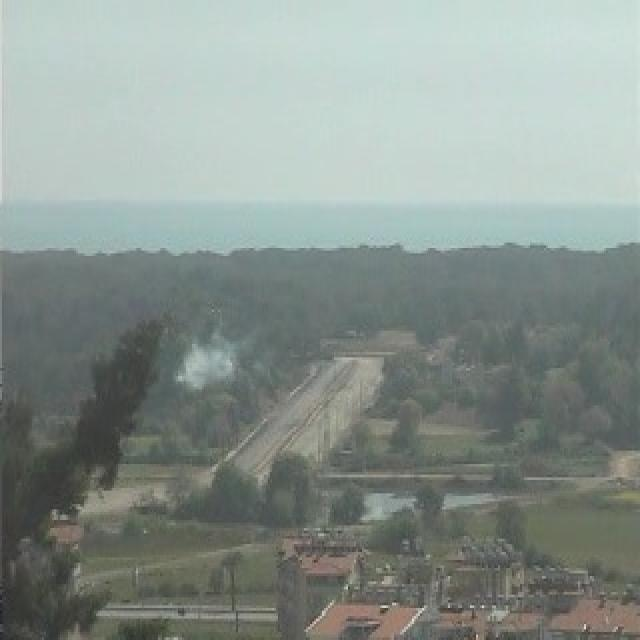Smoke: (173, 333, 237, 391)
